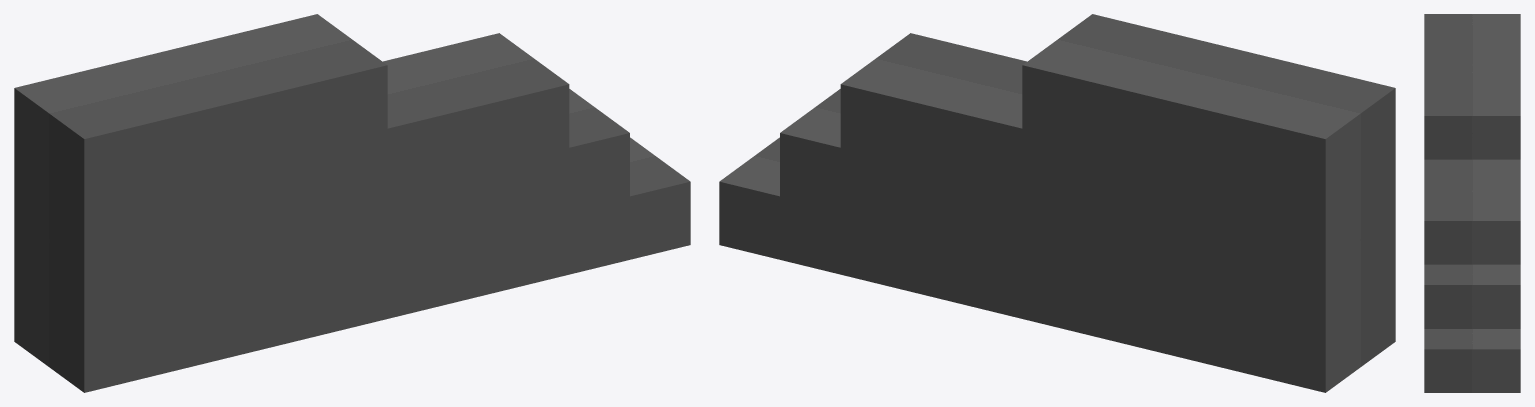
The model's file is stonetxt2.fbx.
3 views of the same model, side by side, from view 1: azimuth 30°, elevation 25°; view 2: azimuth 150°, elevation 25°; view 3: azimuth 270°, elevation 25° (orthographic). The views are drawn at different scales.
Visible parts, largest first — view 1: stonetxt2; view 2: stonetxt2; view 3: stonetxt2.
Part boxes in pixels (<box>): stonetxt2: <box>14,14,690,392</box>; stonetxt2: <box>719,14,1395,392</box>; stonetxt2: <box>1424,14,1520,392</box>.
Size of the model in its own units: 10 by 4 by 2.
Materials: 1 (1 with a texture image).
